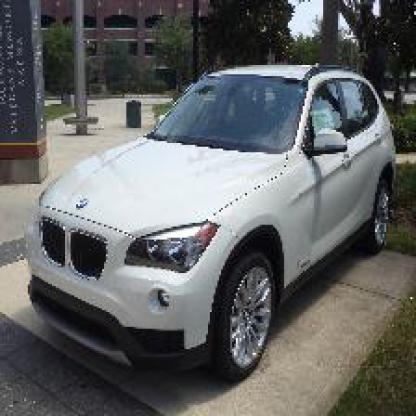not_emergency: (30, 67, 390, 392)
